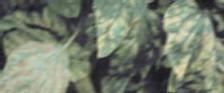Tomato mold leaf: (90, 0, 167, 61), (164, 0, 214, 73), (0, 39, 67, 93)
